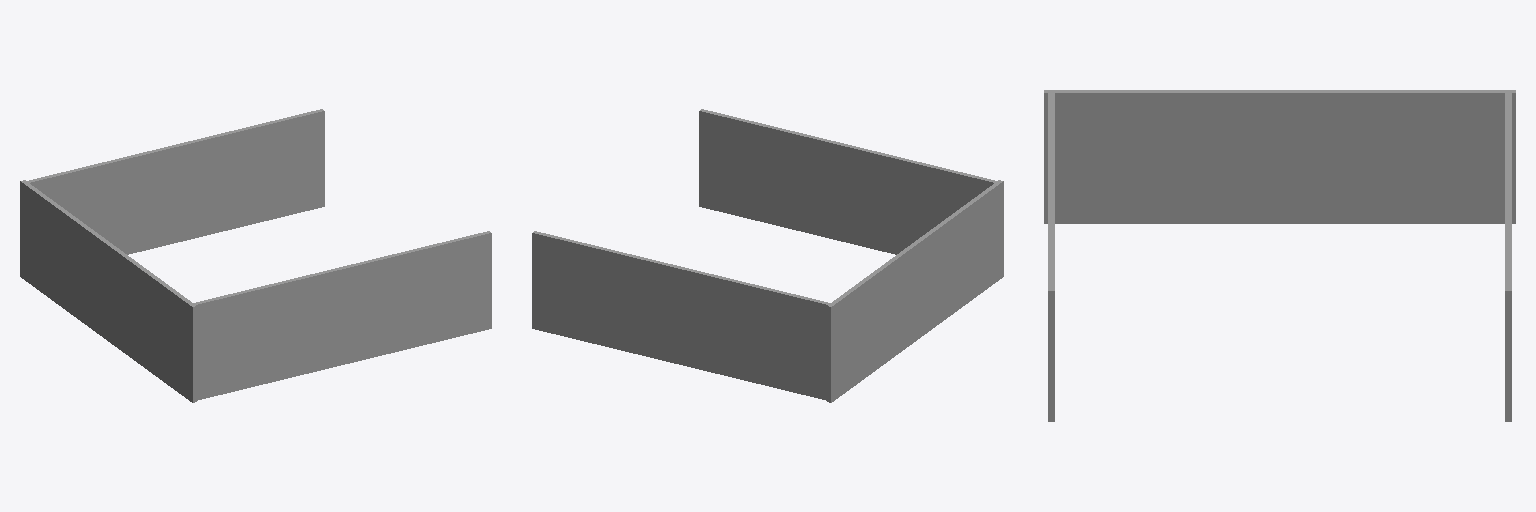
robot.urdf — bowl.urdf:
<?xml version="0.0" ?>
<robot name="bowl.urdf">
  <material name="mainColor">
    <color rgba=".67 .67 .67 1."/>
  </material>
<!--   <material name="mainColor">
    <color rgba=".55 .27 .1 1."/>
  </material> -->
<!--   <material name="mainColor">
    <color rgba="1. 1. 1. 1."/>
  </material> -->
  <material name="grey">
    <color rgba=".5 .5 .5 1."/>
  </material>

  <link name="world"/>

  <link name="base">
    <inertial>
      <origin rpy="0 0 0" xyz="0.0 0.0 0.0"/>
       <mass value=".1"/>
       <inertia ixx="1" ixy="0" ixz="0" iyy="1" iyz="0" izz="1"/>
    </inertial>
    <visual>
      <!-- right -->
      <origin rpy="0 0 0" xyz="0 -.315 0"/>
      <geometry>
        <box size=".65 .01 .2"/>
      </geometry>
      <material name="mainColor"/>
    </visual>
    <visual>
      <!-- left -->
      <origin rpy="0 0 0" xyz="0 .315 0"/>
      <geometry>
        <box size=".65 .01 .2"/>
      </geometry>
      <material name="mainColor"/>
    </visual>
    <visual>
      <!-- back -->
      <origin rpy="0 0 0" xyz="-.325 0 0"/>
      <geometry>
        <box size=".01 .65 .2"/>
      </geometry>
      <material name="mainColor"/>
    </visual>
    <collision>
      <!-- right -->
      <origin rpy="0 0 0" xyz="0 -.45 0"/>
      <geometry>
        <box size="1 .01 .2"/>
      </geometry>
    </collision>
    <collision>
      <!-- left -->
      <origin rpy="0 0 0" xyz="0 .45 0"/>
      <geometry>
        <box size="1 .01 .2"/>
      </geometry>
    </collision>
    <collision>
      <!-- back -->
      <origin rpy="0 0 0" xyz="-.45 0 0"/>
      <geometry>
        <box size=".01 1 .2"/>
      </geometry>
    </collision>
  </link>

  <joint name="base_joint" type="fixed">
    <parent link="world"/>
    <child link="base"/>
  </joint>

</robot>

--- Render facts (derived) ---
3 views of the same robot in one strip: view 1: azimuth 30°, elevation 25°; view 2: azimuth 150°, elevation 25°; view 3: azimuth 270°, elevation 25° (orthographic).
Model bowl.urdf with 2 links and 1 joints (1 fixed), rooted at world, posed every joint at zero.
Links seen in each view (by area): view 1: base; view 2: base; view 3: base.
Link boxes in pixels (box(x1,y1,x2,y2)): base: box(20, 109, 491, 402); base: box(532, 109, 1003, 402); base: box(1044, 90, 1515, 421).
Size in the robot's own frame: 0.655 by 0.65 by 0.2 metres.
Geometry: primitives only (box / cylinder / sphere), no mesh files.